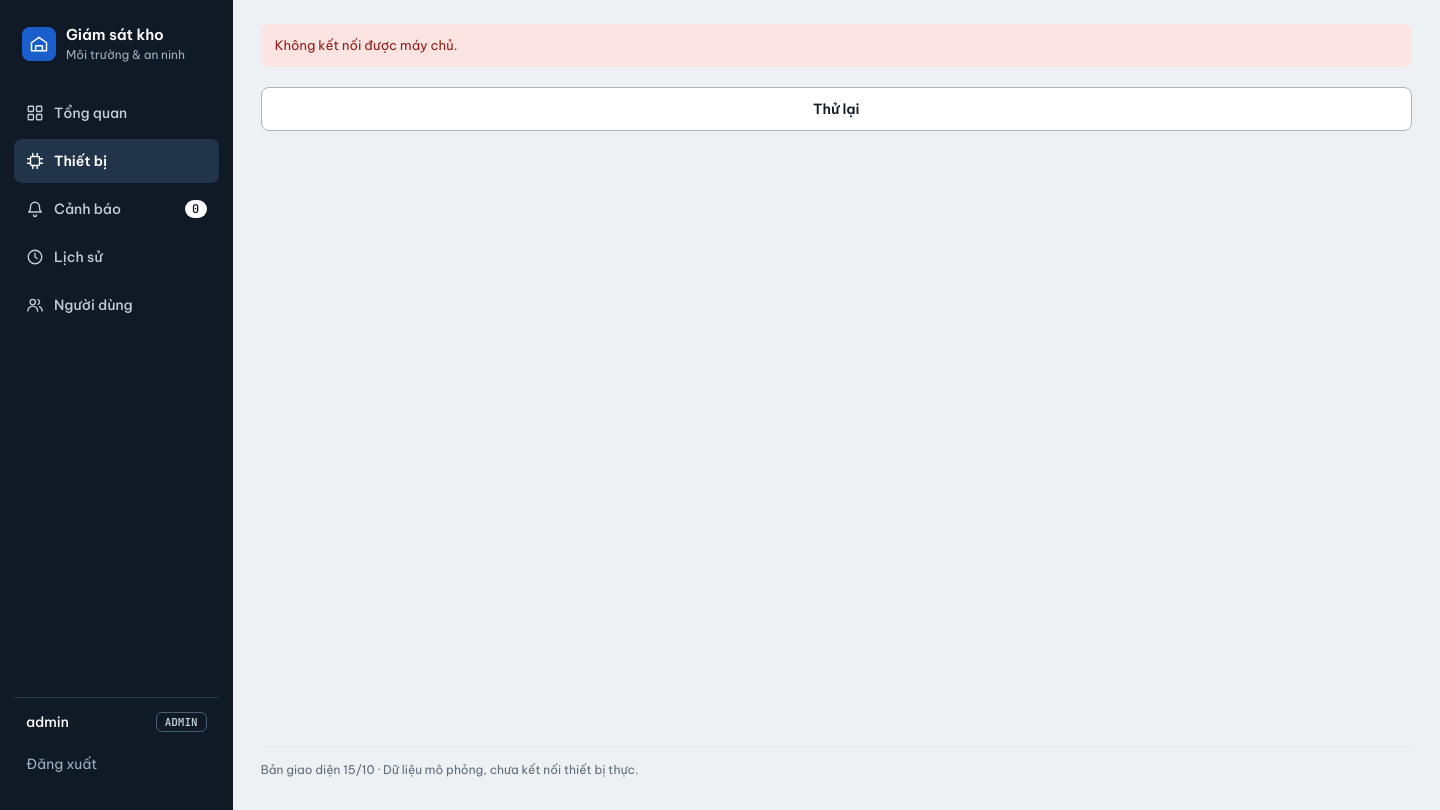
Test: recovers a failed dashboard read when the user retries
Expected: the message reads "Không kết nối được máy chủ.", [275,37,458,53]
Click the button "Thử lại".
click(836, 109)  # box [261,87,1412,131]
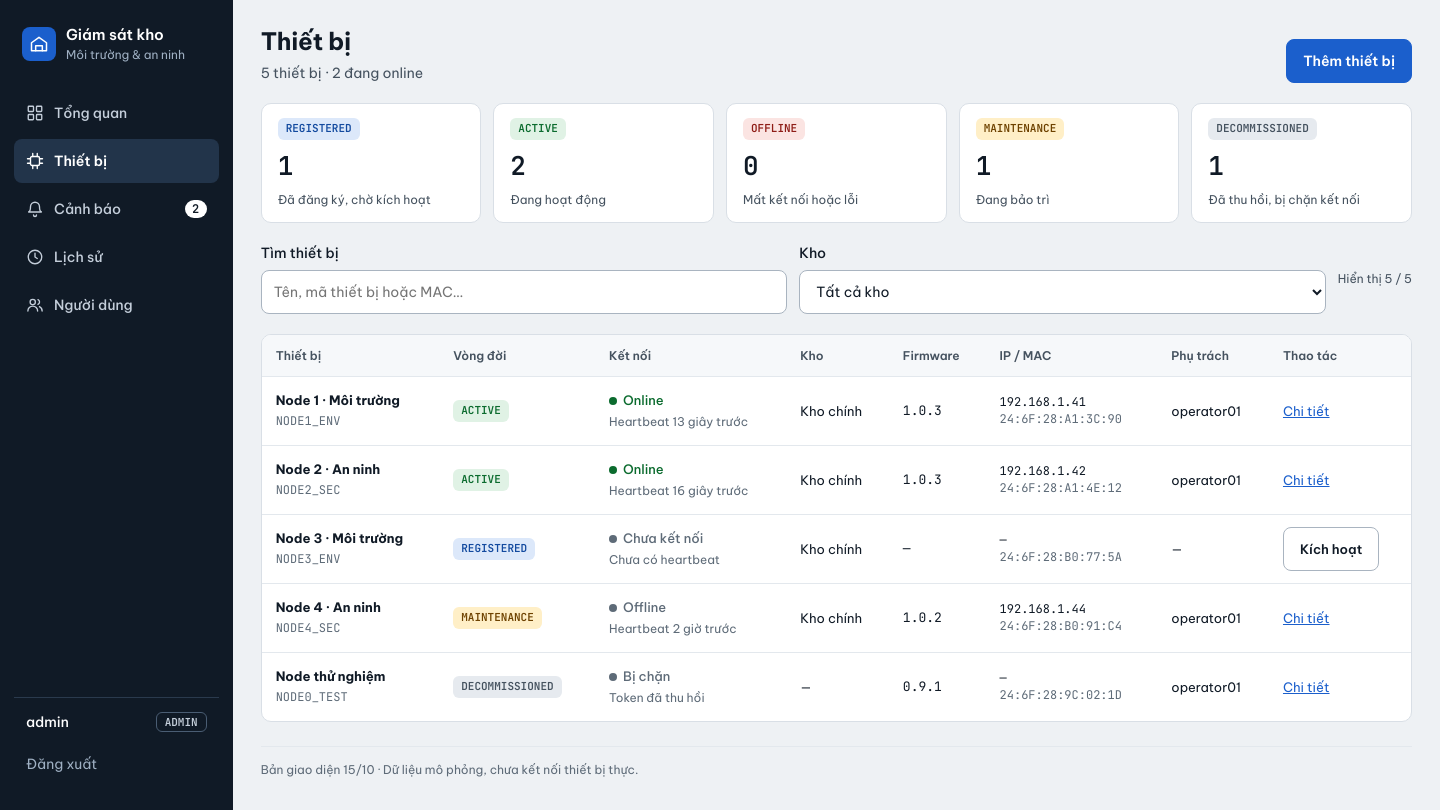
Now the heading "Thiết bị" is shown, box [261,26,351,56]
